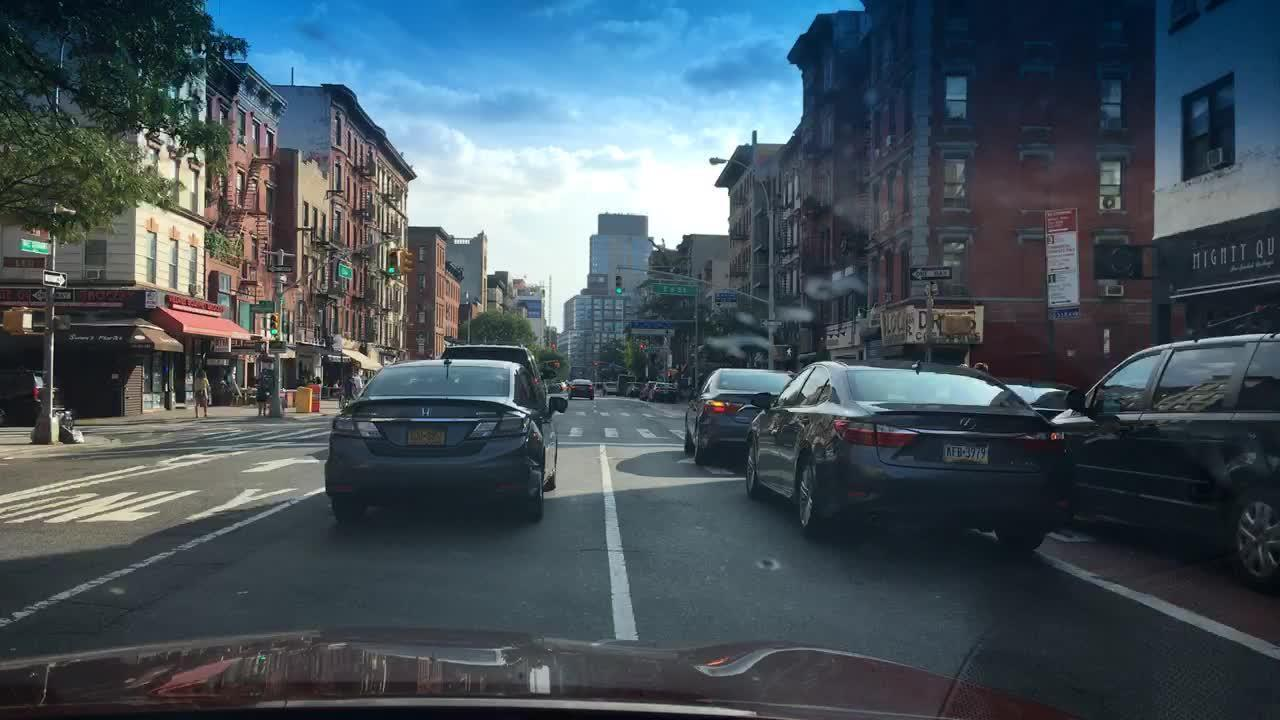Honda: (413, 401, 446, 423)
lexus: (947, 412, 987, 433)
